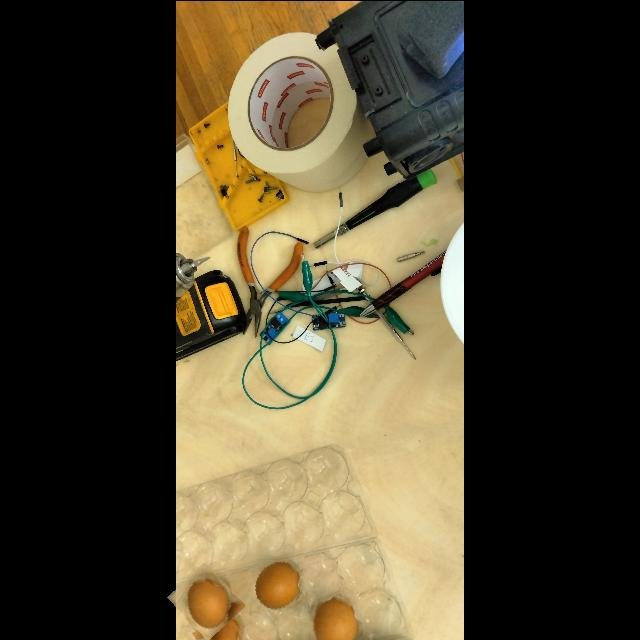Egg: (174, 566, 238, 634), (249, 555, 311, 613), (308, 591, 362, 640), (193, 611, 246, 640)
